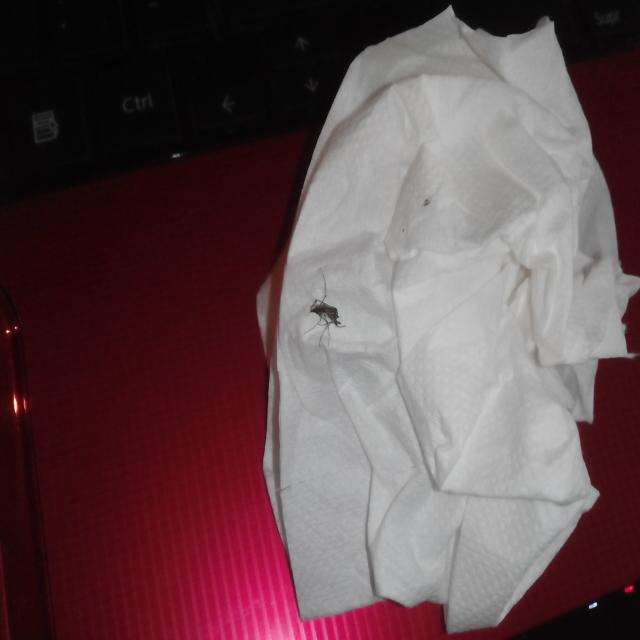albopictus: (296, 264, 354, 352)
